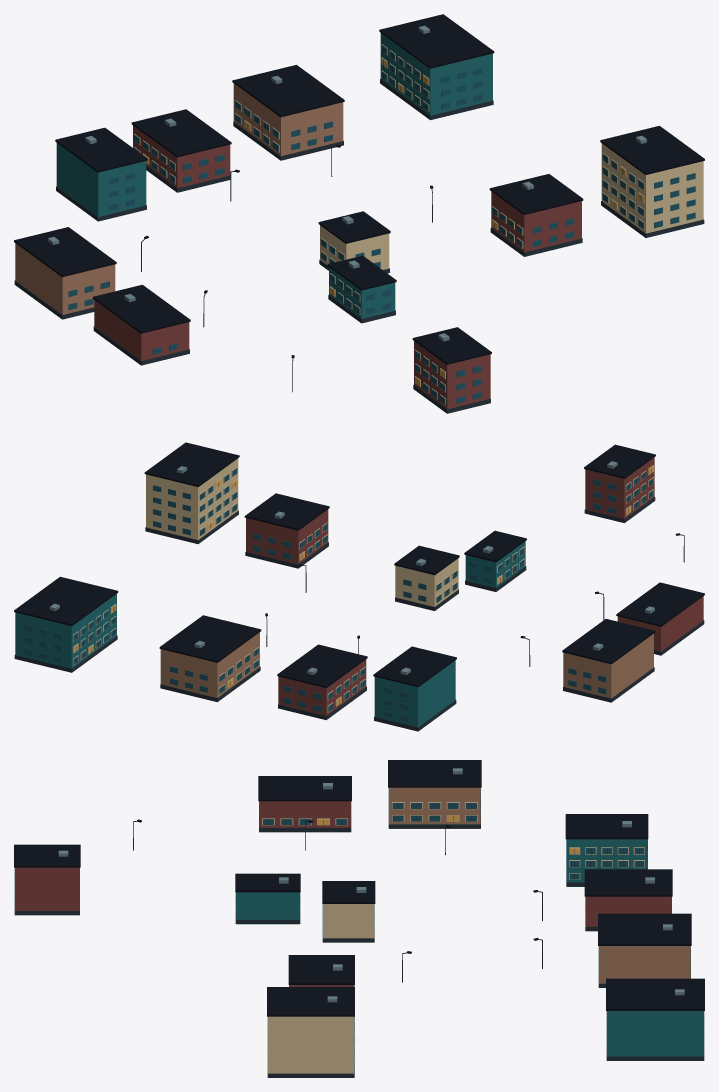
Rendered from BacklotBuildings.obj.
The picture shows the model from 3 angles, top to bottom: view 1: azimuth 30°, elevation 25°; view 2: azimuth 150°, elevation 25°; view 3: azimuth 270°, elevation 25°; orthographic projection. The views are drawn at different scales.
Bounding box in the file's own units: 121 × 13.65 × 128.
